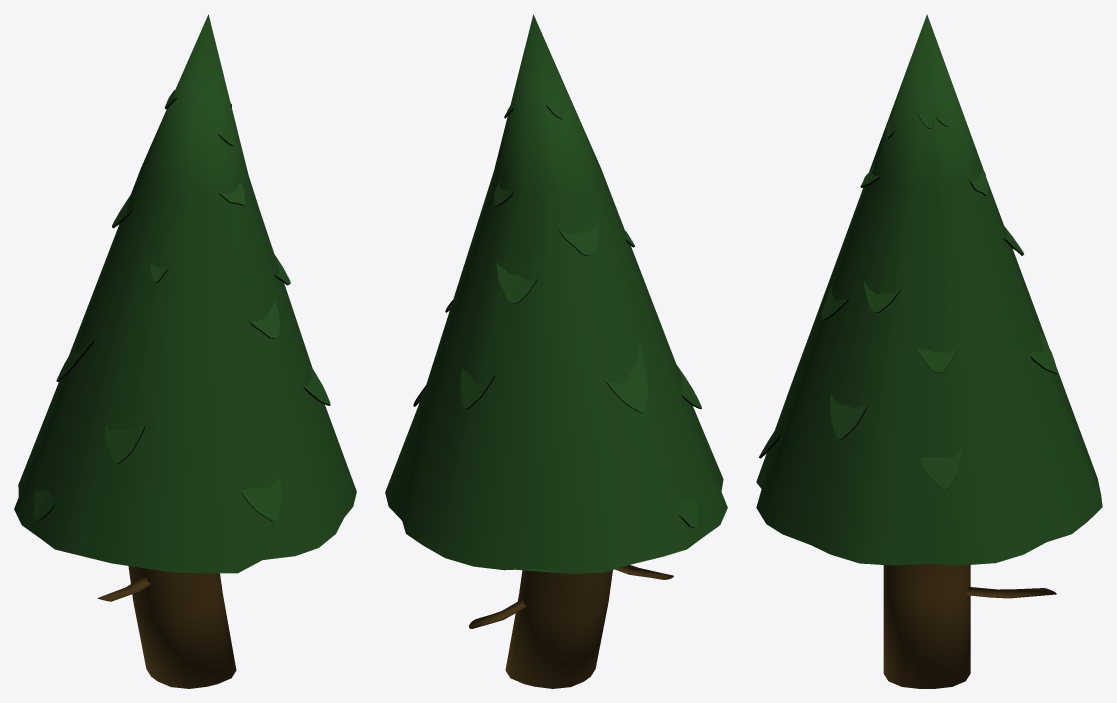
Rendered from Pine Tree.fbx.
3 views of the same model, side by side, from view 1: azimuth 30°, elevation 25°; view 2: azimuth 150°, elevation 25°; view 3: azimuth 270°, elevation 25° (orthographic). The views are drawn at different scales.
Parts seen in each view (by area): view 1: Cone, Plane, Leaf 4.001, Leaf 4.006, Leaf 1.001; view 2: Cone, Plane, Leaf 4.005, Leaf 1.004, Leaf 4.004, Leaf 1.005, Plane.001; view 3: Cone, Plane, Leaf 4.003, Leaf 4.002, Plane.001, Leaf 1.003.
Part boxes in pixels (box(x1,y1,x2,y2)): Cone: box(14, 14, 356, 573); Plane: box(128, 566, 236, 688); Leaf 4.001: box(240, 478, 281, 521); Leaf 4.006: box(105, 423, 146, 464); Leaf 1.001: box(248, 299, 279, 338); Cone: box(385, 14, 727, 573); Plane: box(505, 570, 612, 688); Leaf 4.005: box(604, 344, 648, 412); Leaf 1.004: box(496, 261, 537, 303); Leaf 4.004: box(460, 369, 495, 408); Leaf 1.005: box(558, 218, 598, 255); Plane.001: box(469, 598, 527, 628); Cone: box(756, 14, 1102, 565); Plane: box(883, 563, 970, 688); Leaf 4.003: box(919, 445, 963, 490); Leaf 4.002: box(830, 393, 867, 439); Plane.001: box(966, 586, 1056, 598); Leaf 1.003: box(916, 342, 958, 373).
Bounding box in the file's own units: 196 × 422 × 199.
